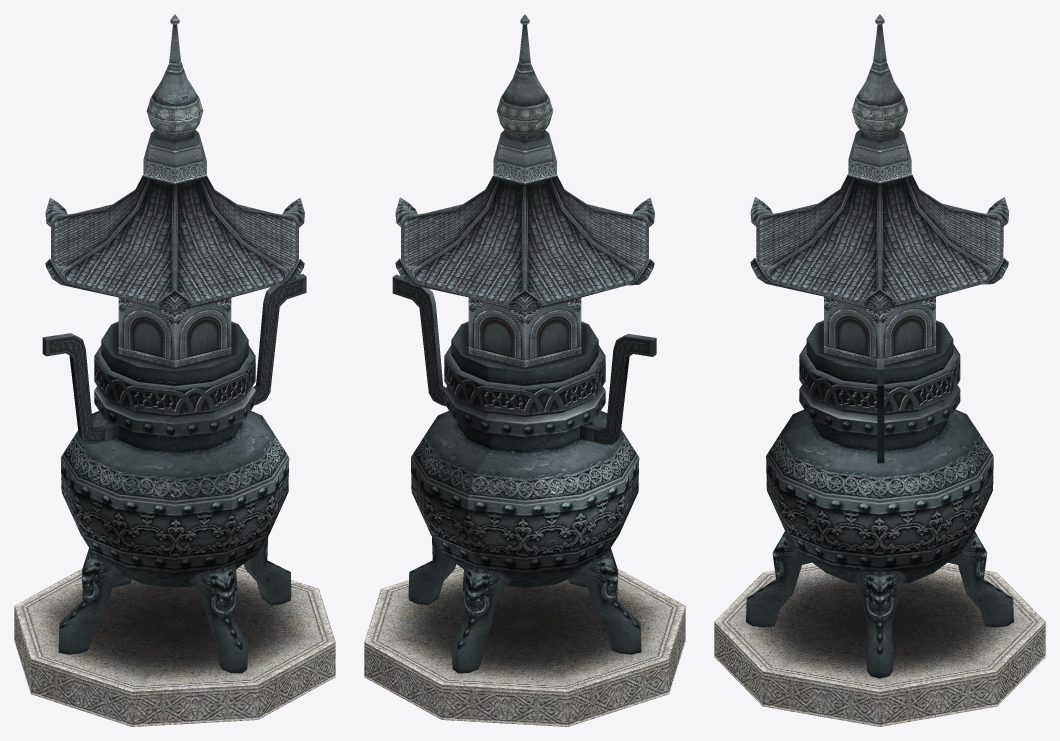
The model's file is furnace_brazier.glb.
The picture shows the model from 3 angles, left to right: view 1: azimuth 30°, elevation 25°; view 2: azimuth 150°, elevation 25°; view 3: azimuth 270°, elevation 25°; orthographic projection.
Parts seen in each view (by area): view 1: ob_brazier_02.001, ob_brazier_01.001; view 2: ob_brazier_02.001, ob_brazier_01.001; view 3: ob_brazier_02.001, ob_brazier_01.001.
Boxes of the visible parts, x1,y1,x2,y2 form: ob_brazier_02.001: (14,14,335,726); ob_brazier_01.001: (42,274,306,587); ob_brazier_02.001: (364,14,685,726); ob_brazier_01.001: (392,274,656,587); ob_brazier_02.001: (714,14,1045,726); ob_brazier_01.001: (766,320,993,583).
Size of the model in its own units: 206 by 442 by 206.
2 materials, 2 textured.
